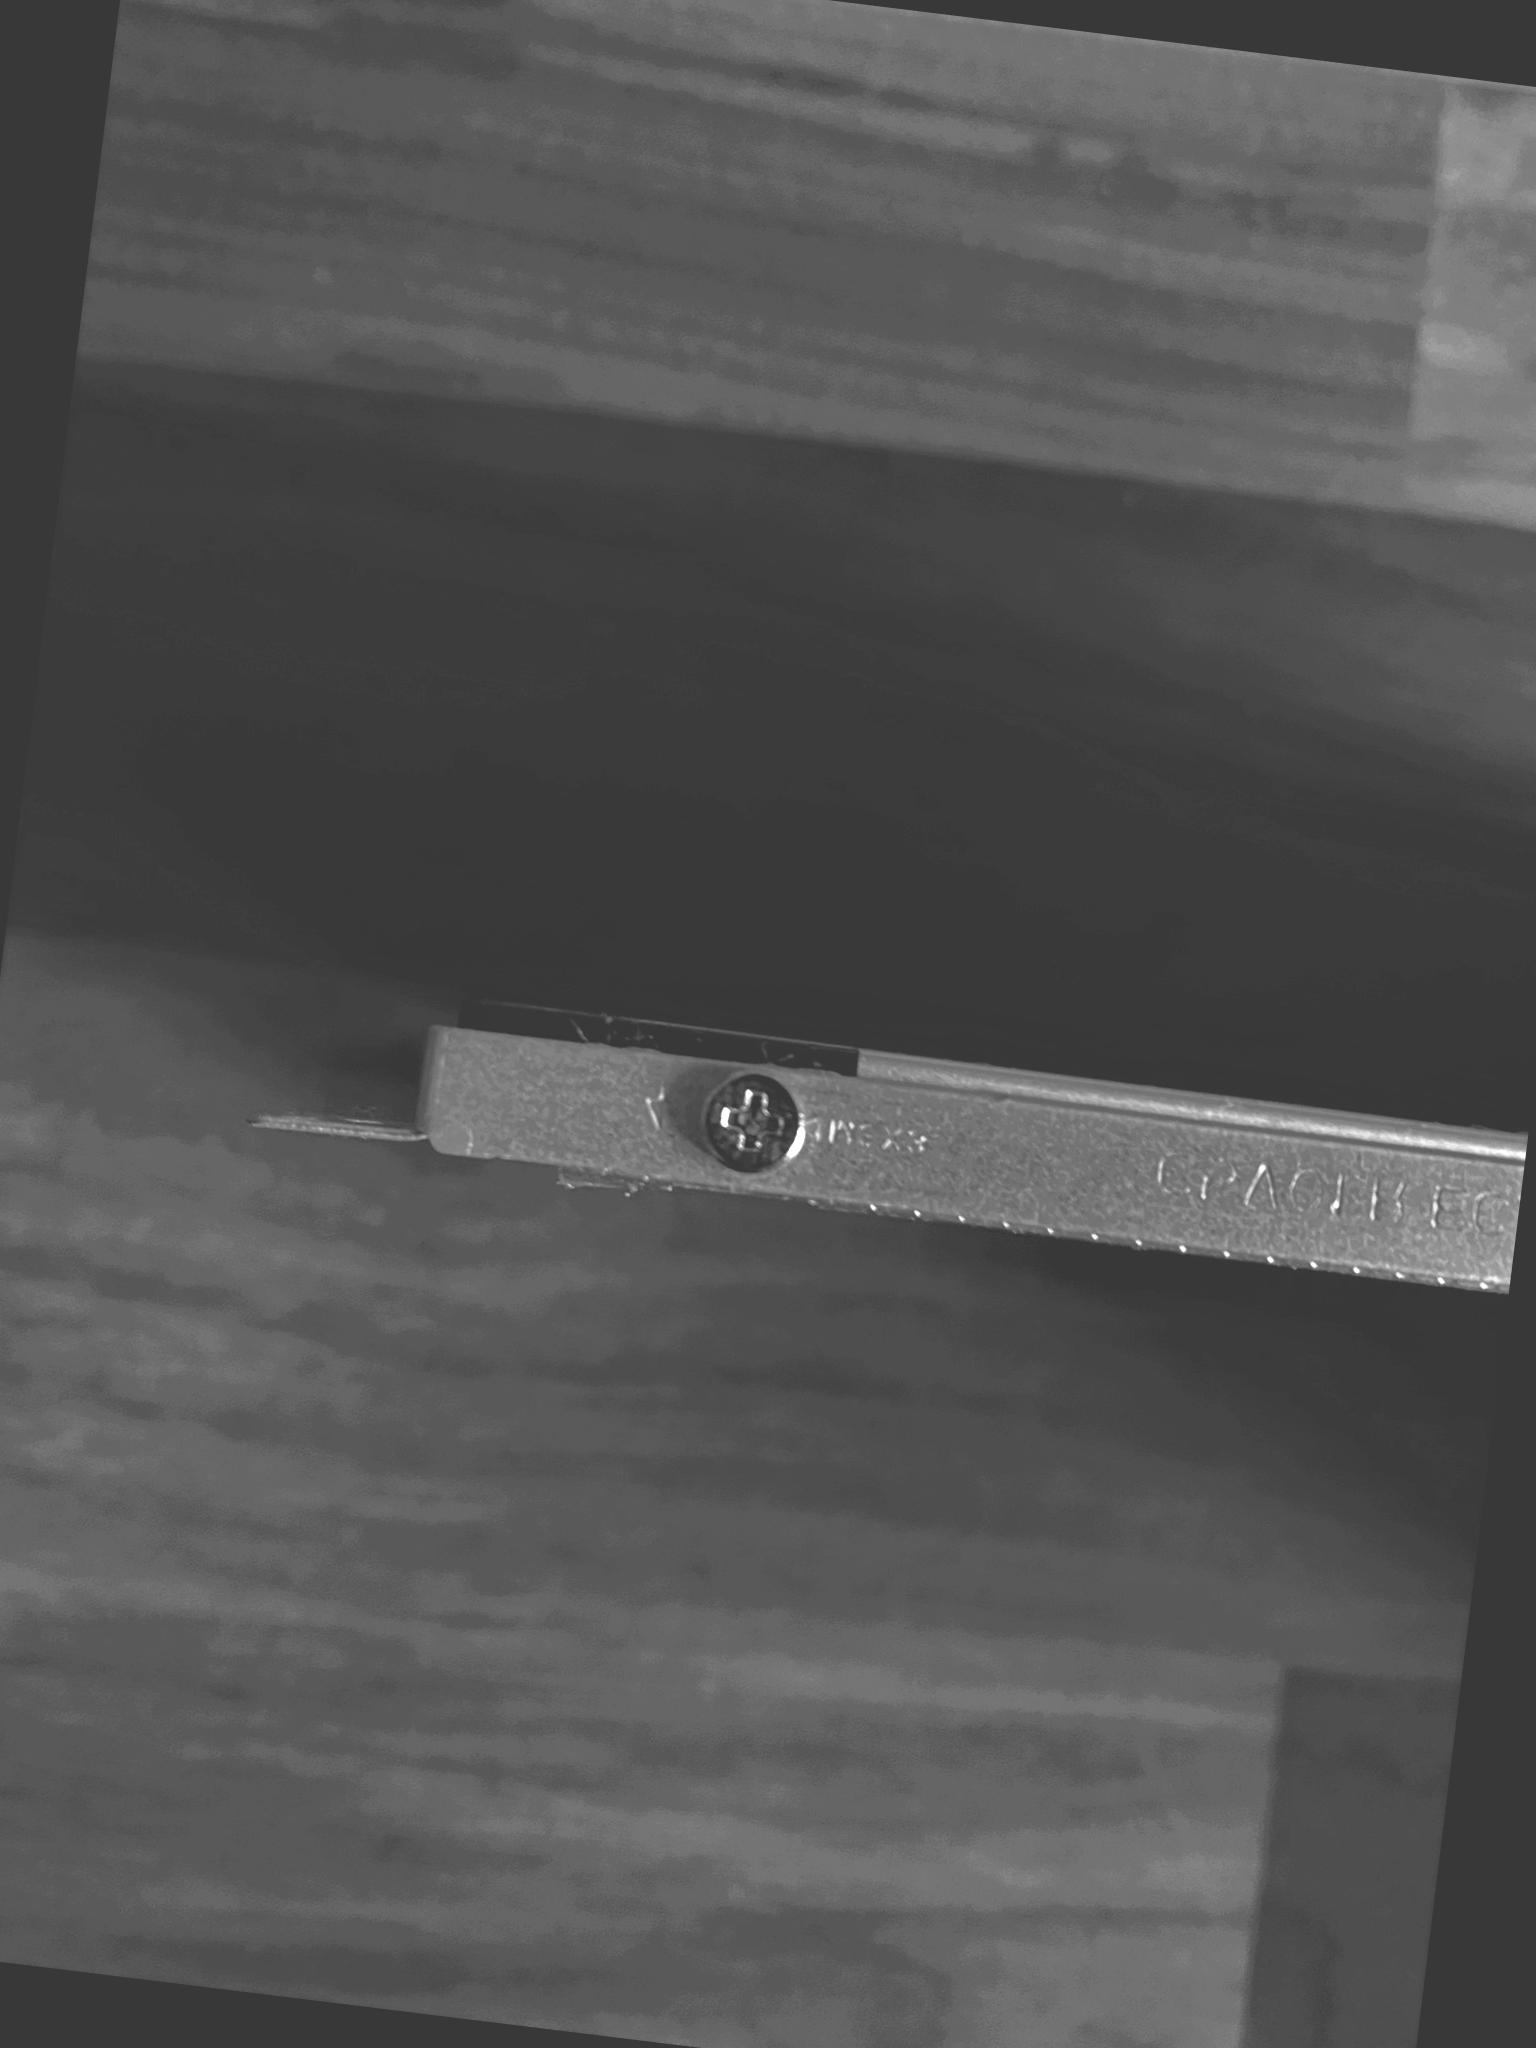philips-PZ: (692, 1061, 818, 1182)
